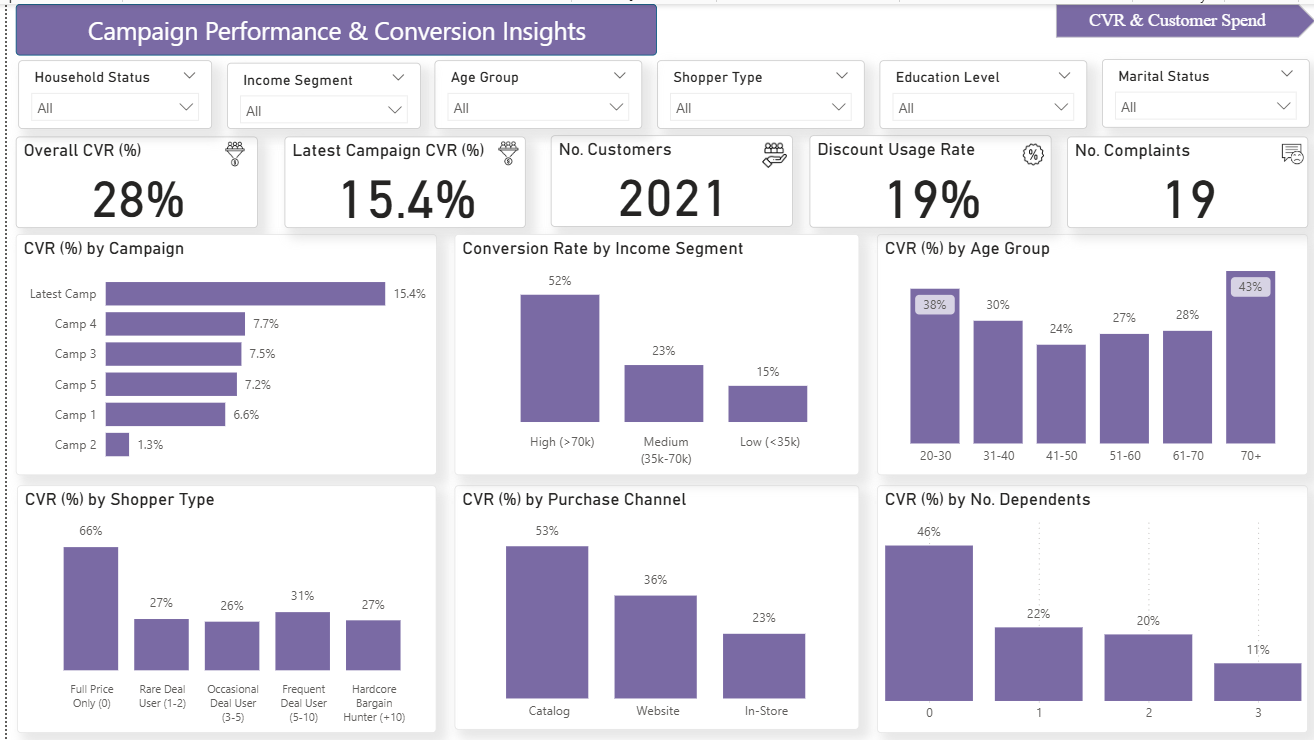

What the dashboard file says about the page in this screenshot:
{"tool":"powerbi","page":{"name":"Marketing Performance","canvas":[1280,720],"ordinal":5},"visuals":[{"type":"columnChart","title":"CVR (%) by Purchase Channel","fields":{"Y":["_Measures.Campaign Conversion Rate overall"],"Category":["Fact Table.Favorite Channel 22"]},"box":[437.6,470.6,396.1,239.6],"z":0},{"type":"card","title":"Overall CVR (%)","fields":{"Values":["_Measures.Campaign Conversion Rate overall"]},"box":[8.6,129.3,237.1,89.2],"z":1000},{"type":"slicer","fields":{"Values":["Fact Table.Shopper Type"]},"box":[636.4,55,202.9,67.2],"z":2000},{"type":"columnChart","title":"CVR (%) by No. Dependents","fields":{"Category":["Fact Table.Dependents"],"Y":["_Measures.Campaign Conversion Rate overall"]},"box":[850.8,470.6,421.7,242],"z":3000},{"type":"barChart","title":"CVR (%) by Campaign","fields":{"Category":["CampaignSteps.Campaign Name"],"Y":["_Measures.Campaign Conversion Rate"]},"box":[8.6,224.9,412,235.9],"z":4000},{"type":"card","title":"No. Customers","fields":{"Values":["_Measures.Total Customers"]},"box":[531.7,128.4,237.1,89.2],"z":5000},{"type":"slicer","fields":{"Values":["Fact Table.Age Group"]},"box":[418.7,55,203.1,67.2],"z":6000},{"type":"slicer","fields":{"Values":["Fact Table.dep-check"]},"box":[10.5,55,189.5,67.2],"z":7000},{"type":"slicer","fields":{"Values":["Fact Table.Income Segment"]},"box":[214.6,57.7,189.4,64.5],"z":8000},{"type":"lineStackedColumnComboChart","title":"CVR (%) by Age Group","fields":{"Category":["Fact Table.Age Group"],"Y":["_Measures.Campaign Conversion Rate overall"]},"box":[850.8,224.9,421.7,235.9],"z":9000},{"type":"card","title":"Discount Usage Rate","fields":{"Values":["_Measures.Deal Reliance Rate"]},"box":[784.8,128.4,237.1,90.5],"z":10000},{"type":"slicer","fields":{"Values":["Fact Table.Education Level"]},"box":[854,55,202.9,67.2],"z":11000},{"type":"slicer","fields":{"Values":["Fact Table.Marital Status"]},"box":[1071.6,53.8,202.9,67.2],"z":12000},{"type":"card","title":"Latest Campaign CVR (%)","fields":{"Values":["_Measures.Latest Cmp CVR %"]},"box":[271.4,129.6,235.9,89.2],"z":13000},{"type":"card","title":"No. Complaints","fields":{"Values":["_Measures.No. of Complaints"]},"box":[1036.6,129.3,235.9,89.2],"z":14000},{"type":"textbox","box":[8.6,0,627.1,50.1],"z":15000},{"type":"image","box":[732.5,130.8,36.7,34.2],"z":16000},{"type":"image","box":[200.5,129.6,45.2,34.2],"z":17000},{"type":"image","box":[473.2,128.4,34.2,35.5],"z":18000},{"type":"image","box":[985.6,130.8,36.7,33],"z":19000},{"type":"lineStackedColumnComboChart","title":"CVR (%) by Shopper Type","fields":{"Category":["Fact Table.Shopper Type"],"Y":["_Measures.Campaign Conversion Rate overall"]},"box":[9.8,470.6,410.7,242],"z":20000},{"type":"columnChart","fields":{"Category":["Fact Table.Income Segment"],"Y":["_Measures.Campaign Conversion Rate overall"]},"box":[437.6,224.9,396.1,235.9],"z":21000},{"type":"shape","box":[1026,0,254.3,33],"z":22000},{"type":"image","box":[1235.1,128.4,45.2,36.7],"z":23000}]}

Visuals, with their boxes in screenshot pixels (x1, y1, x2, y2), scaled from the page's 1280x720 canvas onto the 1314x740 screenshot:
"CVR (%) by Purchase Channel" columnChart: {"left": 449, "top": 484, "right": 856, "bottom": 730}
"Overall CVR (%)" card: {"left": 9, "top": 133, "right": 252, "bottom": 225}
slicer - Fact Table.Shopper Type: {"left": 653, "top": 57, "right": 862, "bottom": 126}
"CVR (%) by No. Dependents" columnChart: {"left": 873, "top": 484, "right": 1306, "bottom": 732}
"CVR (%) by Campaign" barChart: {"left": 9, "top": 231, "right": 432, "bottom": 474}
"No. Customers" card: {"left": 546, "top": 132, "right": 789, "bottom": 224}
slicer - Fact Table.Age Group: {"left": 430, "top": 57, "right": 638, "bottom": 126}
slicer - Fact Table.dep-check: {"left": 11, "top": 57, "right": 205, "bottom": 126}
slicer - Fact Table.Income Segment: {"left": 220, "top": 59, "right": 415, "bottom": 126}
"CVR (%) by Age Group" lineStackedColumnComboChart: {"left": 873, "top": 231, "right": 1306, "bottom": 474}
"Discount Usage Rate" card: {"left": 806, "top": 132, "right": 1049, "bottom": 225}
slicer - Fact Table.Education Level: {"left": 877, "top": 57, "right": 1085, "bottom": 126}
slicer - Fact Table.Marital Status: {"left": 1100, "top": 55, "right": 1308, "bottom": 124}
"Latest Campaign CVR (%)" card: {"left": 279, "top": 133, "right": 521, "bottom": 225}
"No. Complaints" card: {"left": 1064, "top": 133, "right": 1306, "bottom": 225}
textbox: {"left": 9, "top": 0, "right": 653, "bottom": 51}
image: {"left": 752, "top": 134, "right": 790, "bottom": 170}
image: {"left": 206, "top": 133, "right": 252, "bottom": 168}
image: {"left": 486, "top": 132, "right": 521, "bottom": 168}
image: {"left": 1012, "top": 134, "right": 1049, "bottom": 168}
"CVR (%) by Shopper Type" lineStackedColumnComboChart: {"left": 10, "top": 484, "right": 432, "bottom": 732}
columnChart - Fact Table.Income Segment x _Measures.Campaign Conversion Rate overall: {"left": 449, "top": 231, "right": 856, "bottom": 474}
shape: {"left": 1053, "top": 0, "right": 1313, "bottom": 34}
image: {"left": 1268, "top": 132, "right": 1313, "bottom": 170}
